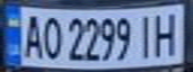2: (63, 14, 84, 62), (81, 14, 100, 62)
9: (115, 12, 136, 61), (100, 14, 118, 62)
A: (18, 11, 45, 60)
H: (151, 8, 184, 57)
I: (133, 11, 157, 60)
O: (39, 12, 63, 61)
